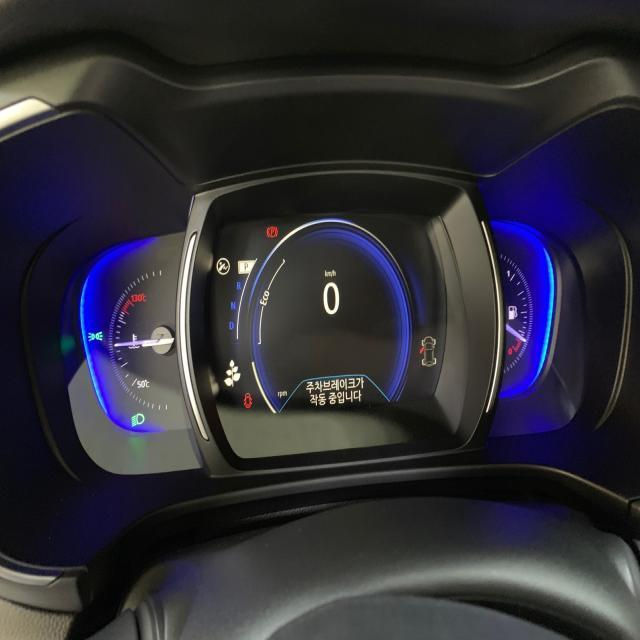Doors: (242, 391, 252, 408)
Low beam: (130, 412, 144, 428)
SideLamp: (86, 329, 102, 341)
